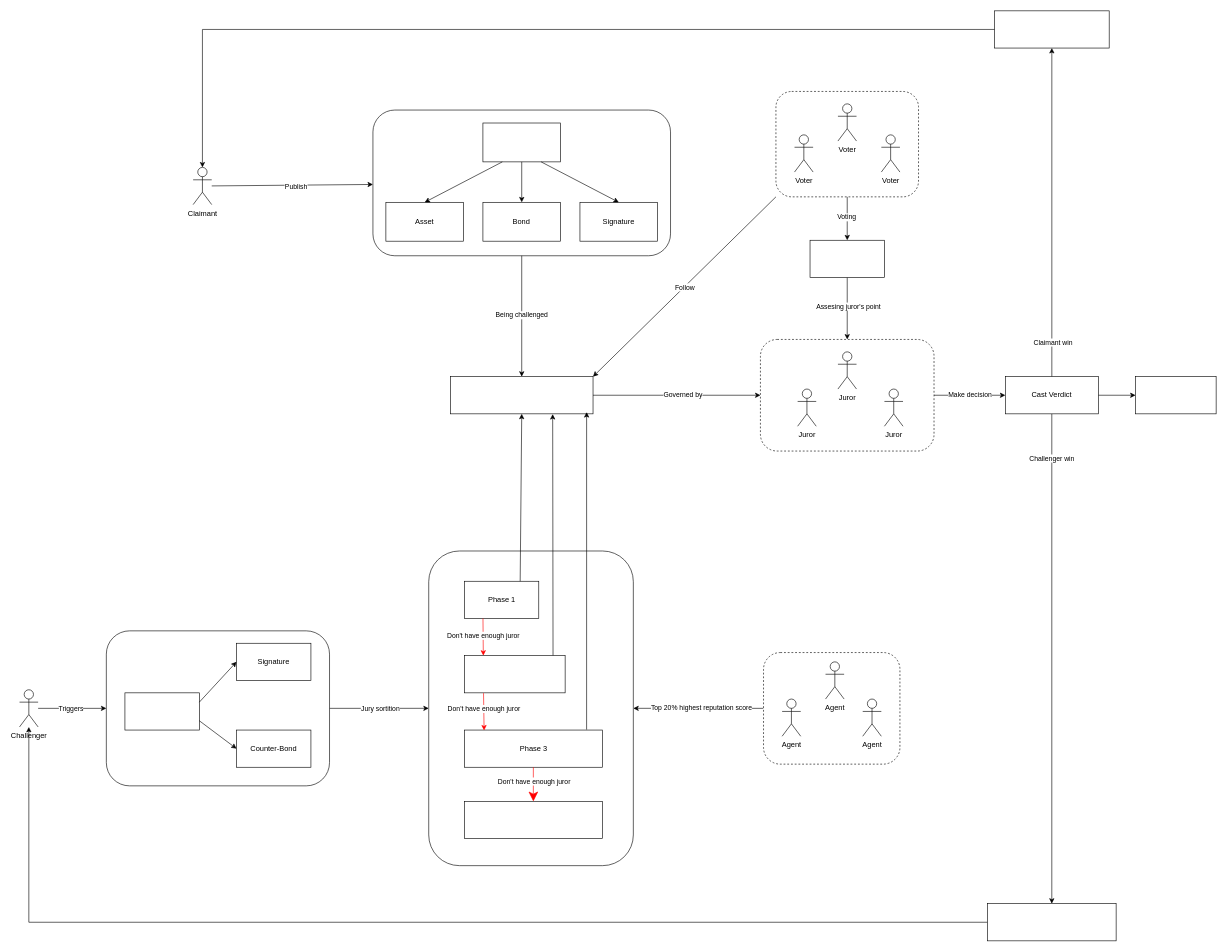
Some shapes in this 1227 by 952 pixel diagram are drawn without their labels. The box of each missing label's shape, as (x1, y1, x2, y2) in pixels:
30% of Bond will be used to reward jurors: (1135, 376, 1216, 414)
70% Bond for Challenger and r eputation corresponding to the Bond: (987, 903, 1116, 941)
70% Counter-Bond for Claimant: (994, 10, 1109, 48)
Claim: (482, 122, 561, 162)
Consensus Engine: (809, 240, 884, 277)
Court: (450, 376, 593, 414)
Dispute: (124, 692, 199, 730)
Phase 2: (464, 655, 565, 693)
Refund: (464, 801, 602, 839)
